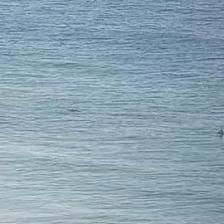surfer: (215, 127, 223, 138), (68, 108, 80, 112)
